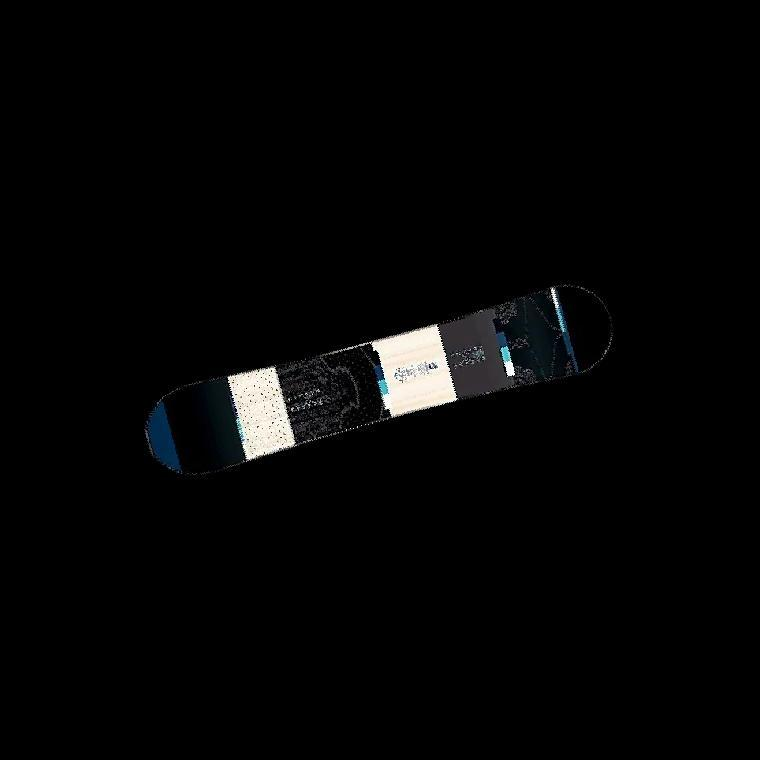Snowboard: (136, 274, 624, 484)
